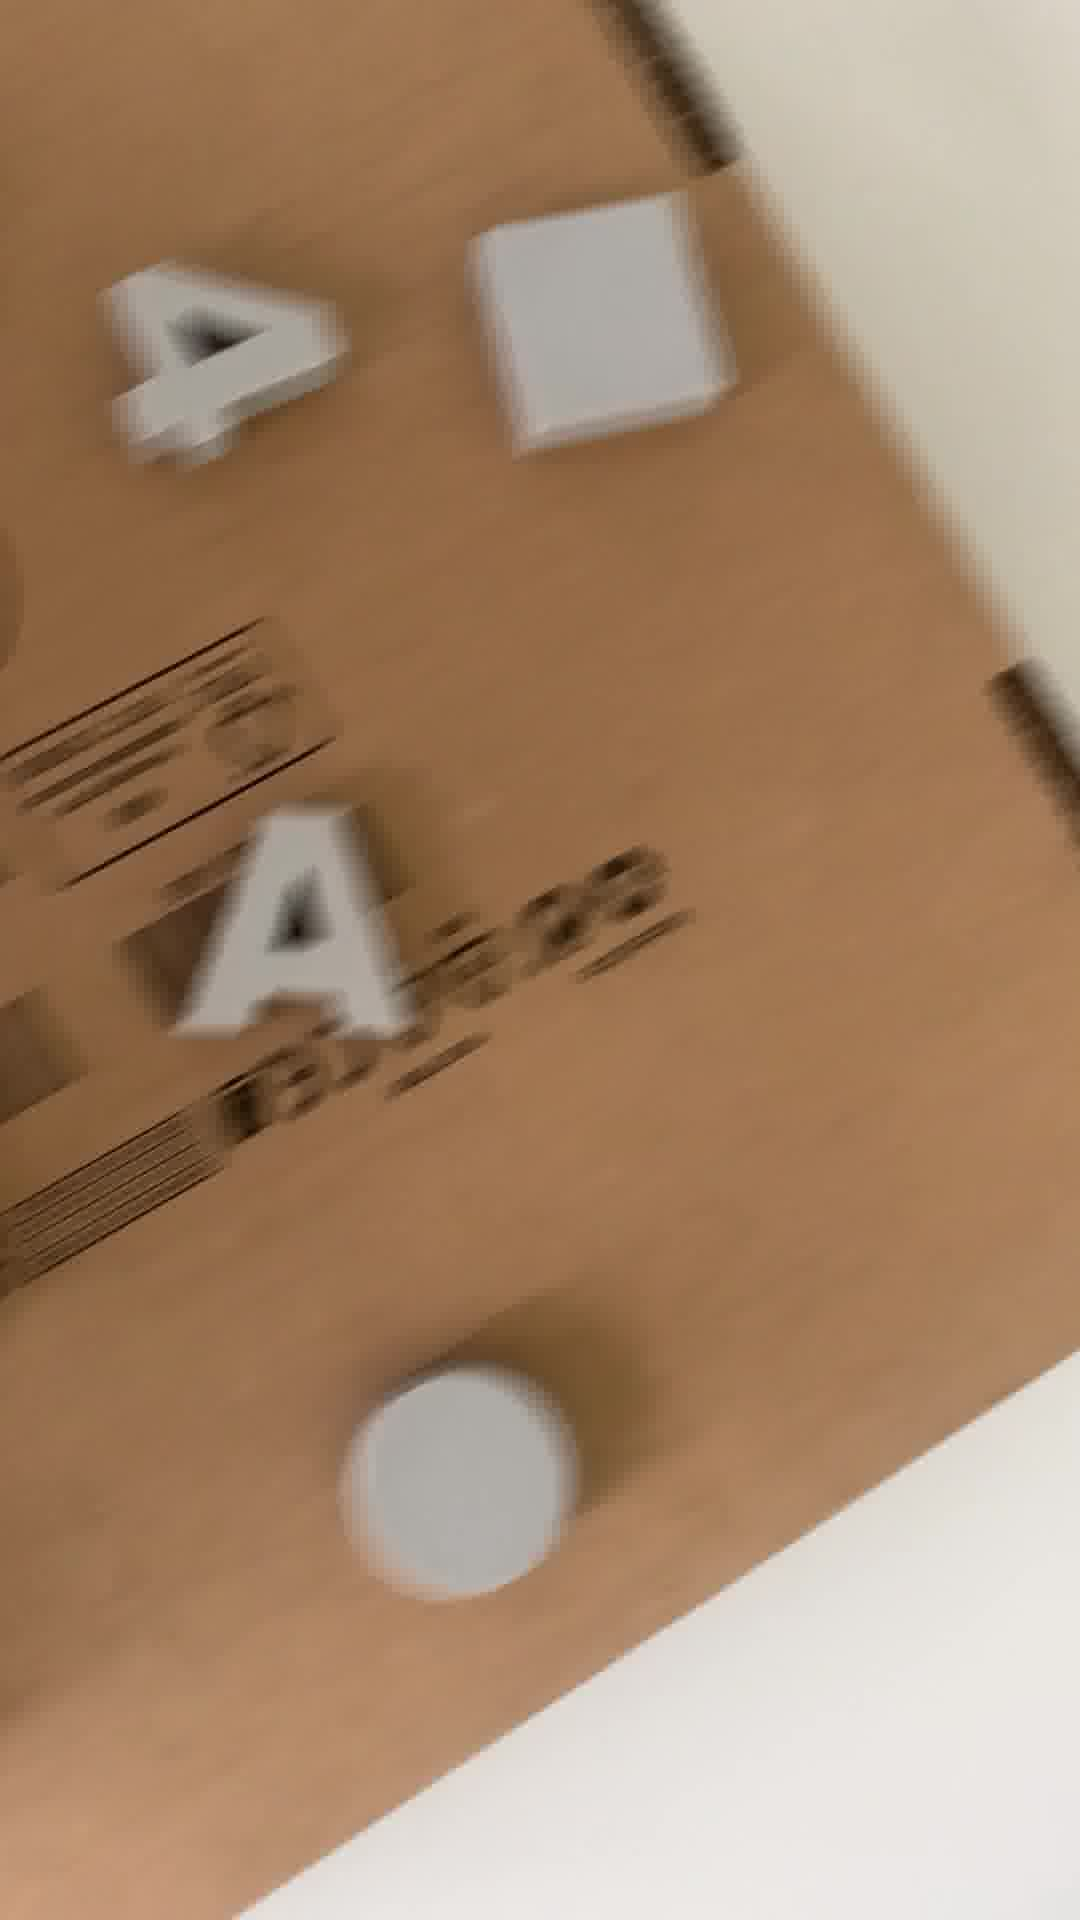Gray A-letter: (179, 804, 431, 1058)
Gray circle: (345, 1361, 582, 1615)
Gray four: (90, 269, 347, 467)
Gray square: (487, 164, 735, 454)
